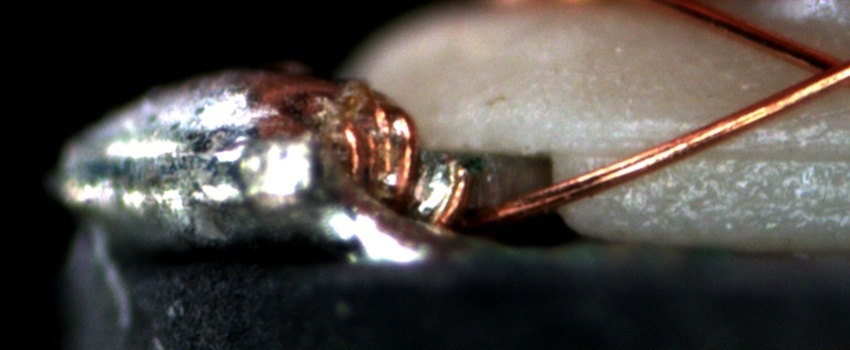CL: (781, 38, 847, 103)
DL: (576, 119, 849, 187)
TE: (334, 86, 474, 225)
